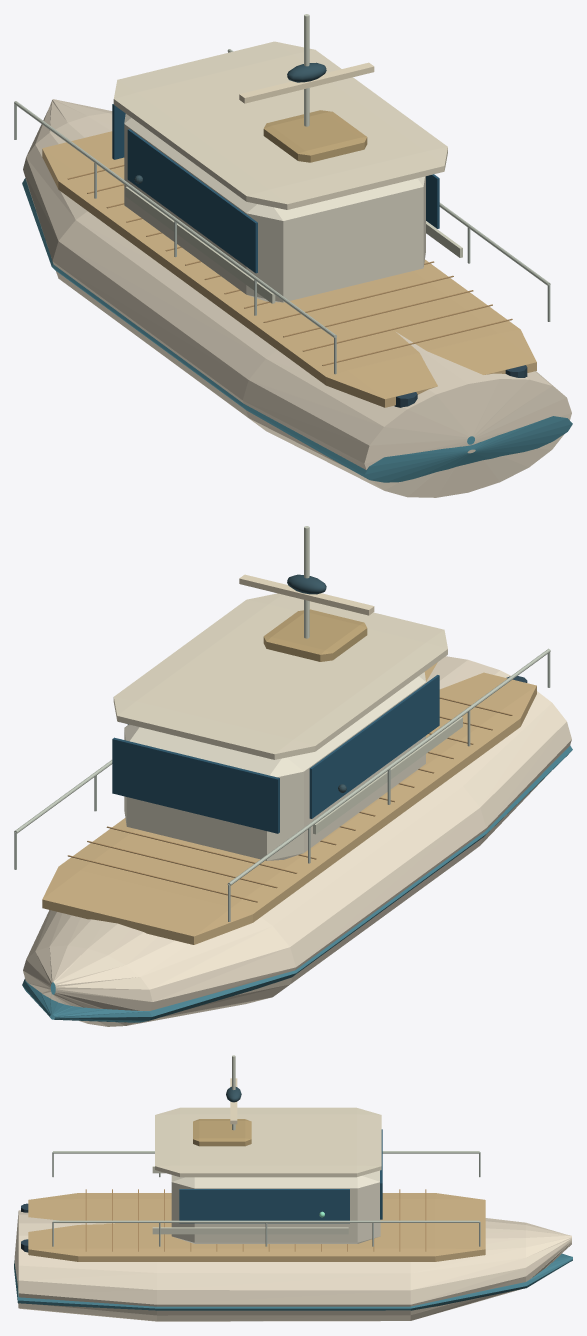
File: yacht.glb
The picture shows the model from 3 angles, top to bottom: view 1: azimuth 30°, elevation 25°; view 2: azimuth 150°, elevation 25°; view 3: azimuth 270°, elevation 25°; orthographic projection. The views are drawn at different scales.
Visible parts, largest first — view 1: yacht; view 2: yacht; view 3: yacht.
Boxes of the visible parts, x1,y1,x2,y2 form: yacht: [14, 14, 572, 497]; yacht: [14, 526, 572, 1026]; yacht: [14, 1055, 572, 1321].
Bounding box in the file's own units: 4.16 × 6.1 × 12.36.
